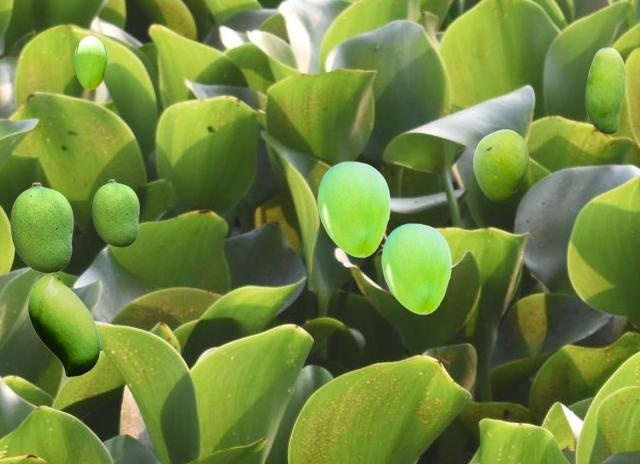green_mango: (27, 272, 99, 376), (317, 161, 389, 256), (381, 223, 450, 313), (10, 182, 72, 272), (473, 129, 527, 201), (585, 47, 625, 133), (92, 179, 138, 246), (74, 35, 106, 88)
